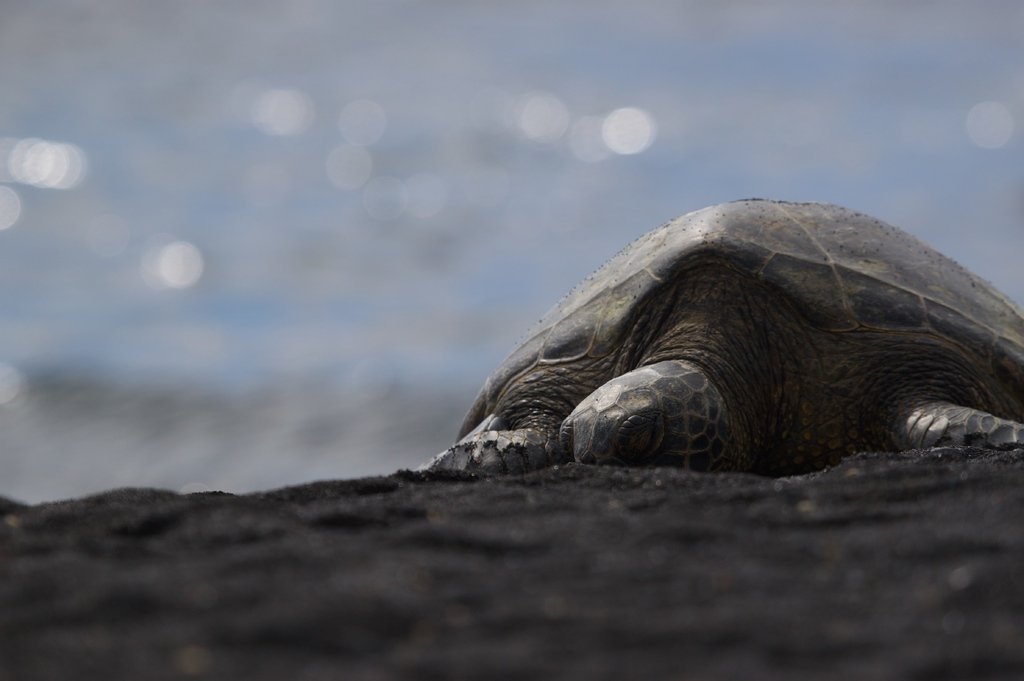Sea turtles: (445, 195, 1024, 487)
